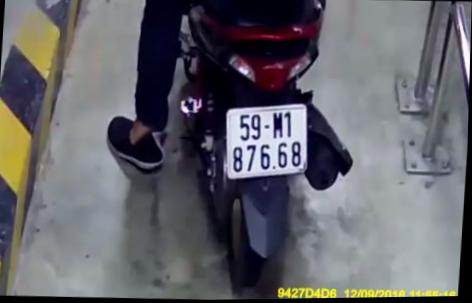LP: (223, 99, 314, 184)
